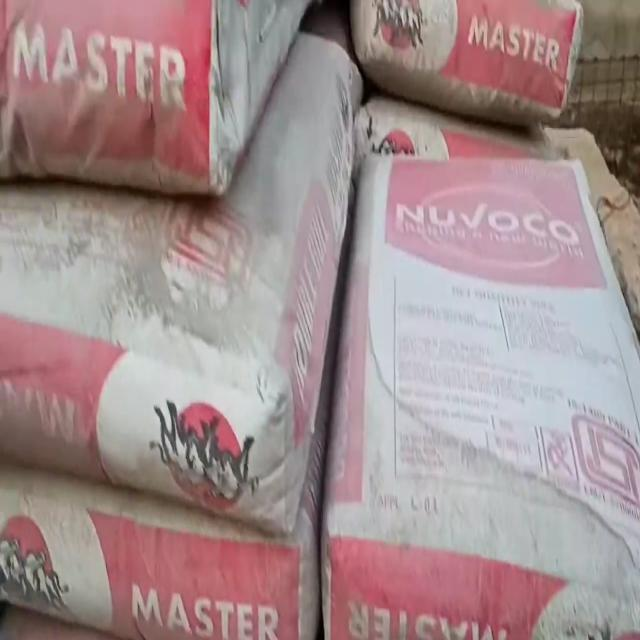gunny_bag: (0, 32, 361, 532), (323, 155, 640, 640), (0, 0, 308, 193), (351, 0, 584, 123)
